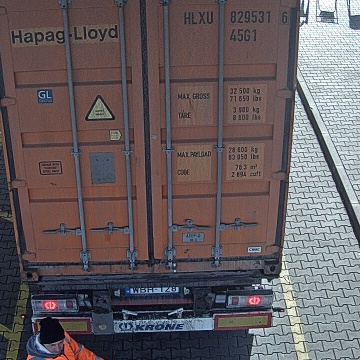serial_id: (183, 10, 288, 24)
